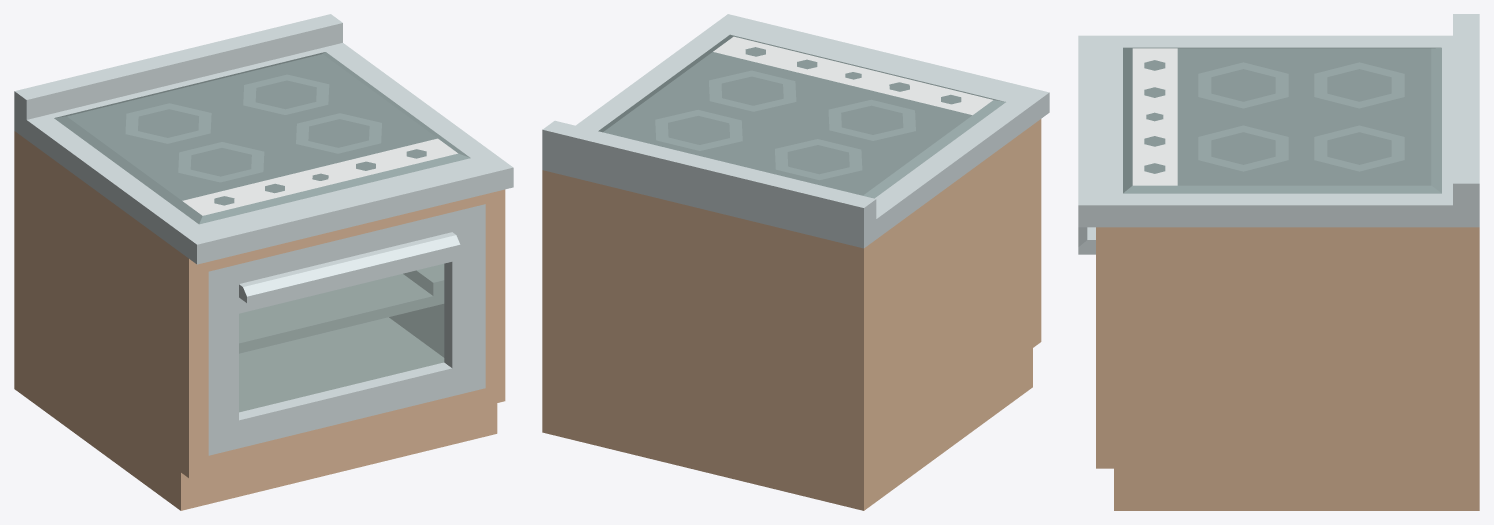
The model's file is kitchenStoveElectric-col.glb.
The picture shows the model from 3 angles, left to right: view 1: azimuth 30°, elevation 25°; view 2: azimuth 150°, elevation 25°; view 3: azimuth 270°, elevation 25°; orthographic projection. The views are drawn at different scales.
Parts seen in each view (by area): view 1: kitchenStoveElectric-col; view 2: kitchenStoveElectric-col; view 3: kitchenStoveElectric-col.
Boxes of the visible parts, left/top/right/bottom form: kitchenStoveElectric-col: left=14, top=14, right=513, bottom=510; kitchenStoveElectric-col: left=542, top=14, right=1049, bottom=510; kitchenStoveElectric-col: left=1078, top=14, right=1479, bottom=510.
Bounding box in the file's own units: 0.5 × 0.45 × 0.5.
